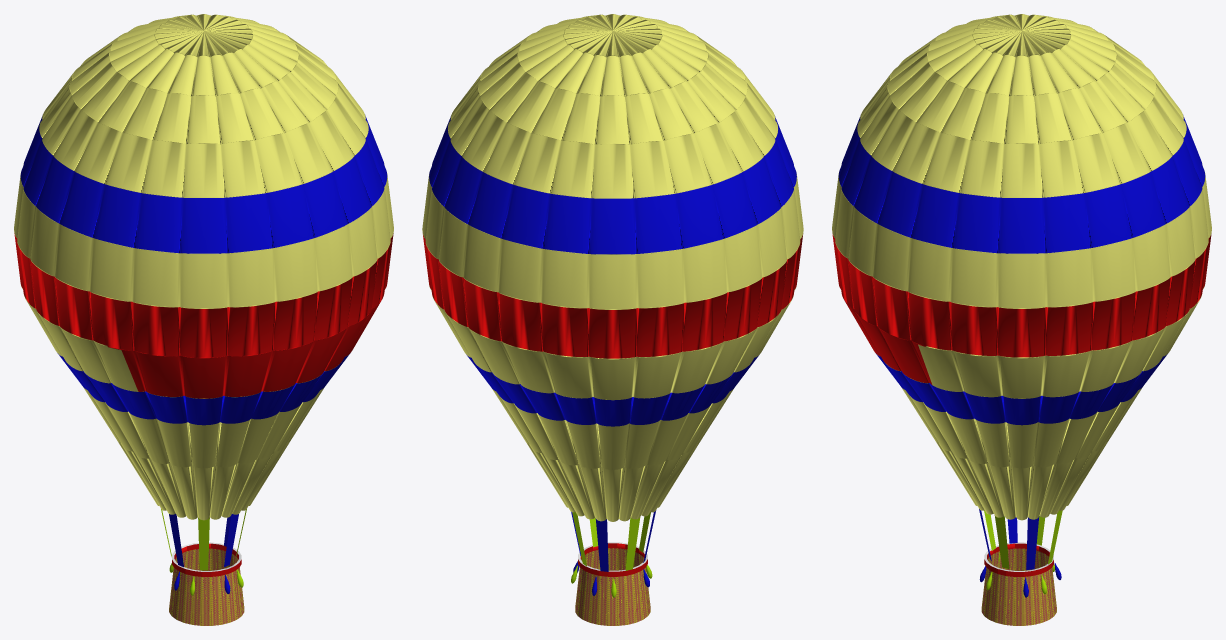
Rendered from balloon_hot_air.fbx.
3 views of the same model, side by side, from view 1: azimuth 30°, elevation 25°; view 2: azimuth 150°, elevation 25°; view 3: azimuth 270°, elevation 25° (orthographic).
Parts seen in each view (by area): view 1: hot_air_balloon, hot_air_balloon_basket; view 2: hot_air_balloon, hot_air_balloon_basket; view 3: hot_air_balloon, hot_air_balloon_basket.
Part boxes in pixels (<box>): hot_air_balloon: <box>14,14,393,570</box>; hot_air_balloon_basket: <box>169,542,244,625</box>; hot_air_balloon: <box>422,14,803,571</box>; hot_air_balloon_basket: <box>575,542,650,625</box>; hot_air_balloon: <box>832,14,1211,569</box>; hot_air_balloon_basket: <box>981,542,1056,625</box>.
Size of the model in its own units: 27.19 by 45.7 by 27.19.
6 materials, 1 textured.
